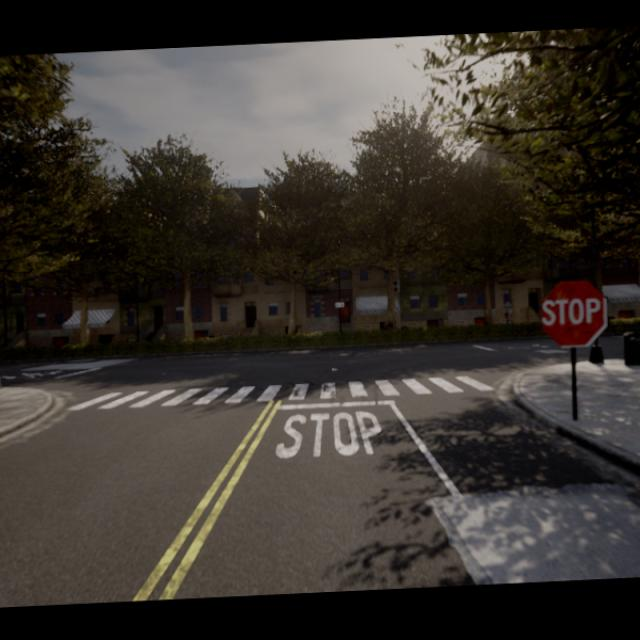stop sign: (538, 275, 608, 350), (540, 296, 602, 328)
